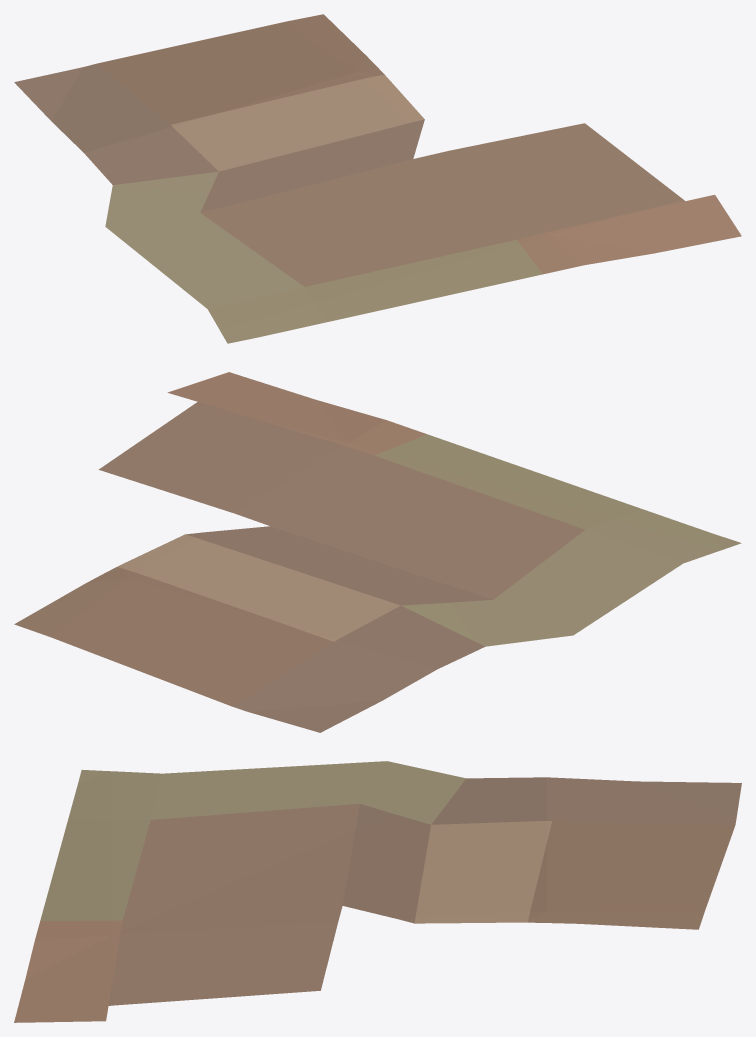
Rendered from farm_10_6_soil.glb.
3 views of the same model, one above another, from view 1: azimuth 30°, elevation 25°; view 2: azimuth 150°, elevation 25°; view 3: azimuth 270°, elevation 25° (orthographic). The views are drawn at different scales.
Visible parts, largest first — view 1: geometry_0; view 2: geometry_0; view 3: geometry_0.
Boxes of the visible parts, <box> form: geometry_0: <box>14,14,741,343</box>; geometry_0: <box>14,372,741,732</box>; geometry_0: <box>14,761,741,1022</box>.
Size of the model in its own units: 119 by 8.82 by 134.
